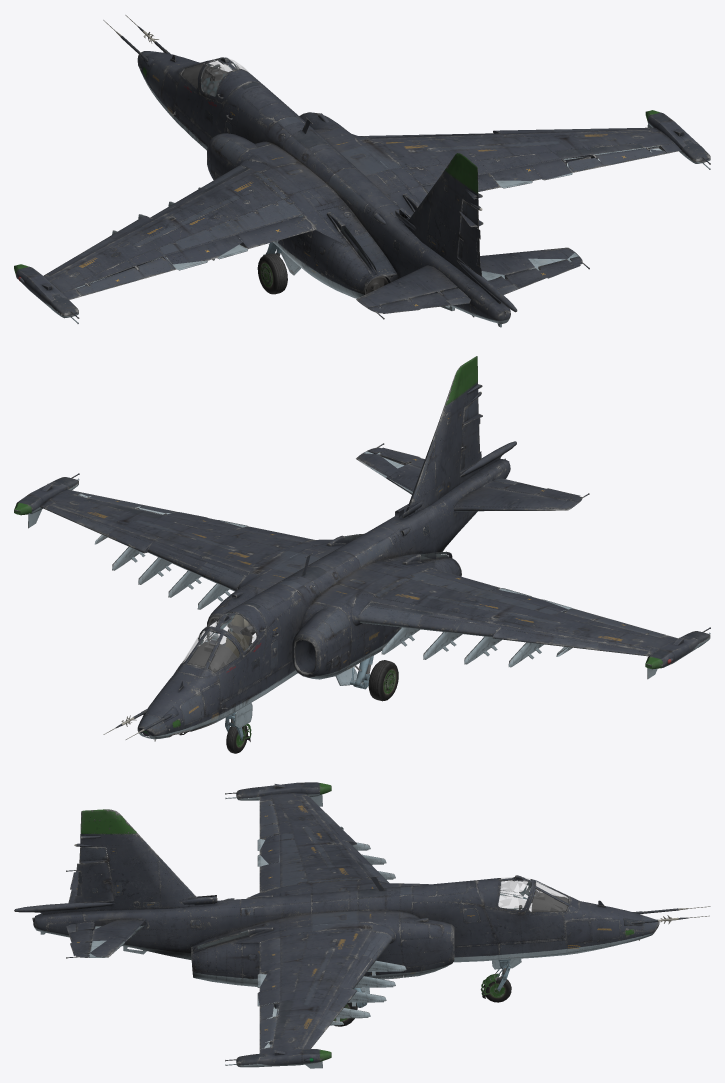
3 renders of one model, top to bottom at view 1: azimuth 30°, elevation 25°; view 2: azimuth 150°, elevation 25°; view 3: azimuth 270°, elevation 25°, orthographic. The views are drawn at different scales.
Parts seen in each view (by area): view 1: A_su25; view 2: A_su25; view 3: A_su25.
Boxes of the visible parts, <box> form: A_su25: <box>14,15,710,327</box>; A_su25: <box>14,356,710,753</box>; A_su25: <box>14,782,710,1068</box>.
Bounding box in the file's own units: 40.66 × 13.26 × 43.48.
2 materials, 2 textured.
